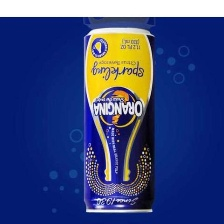can: (79, 25, 159, 216)
